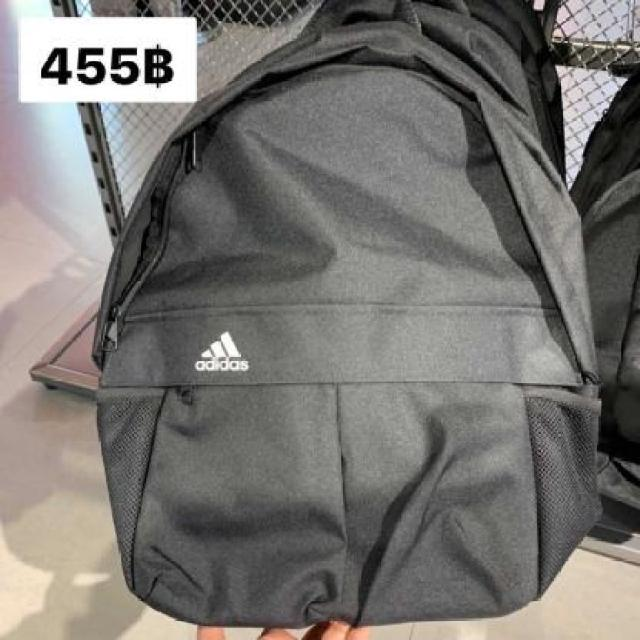Bag: (58, 0, 637, 640)
